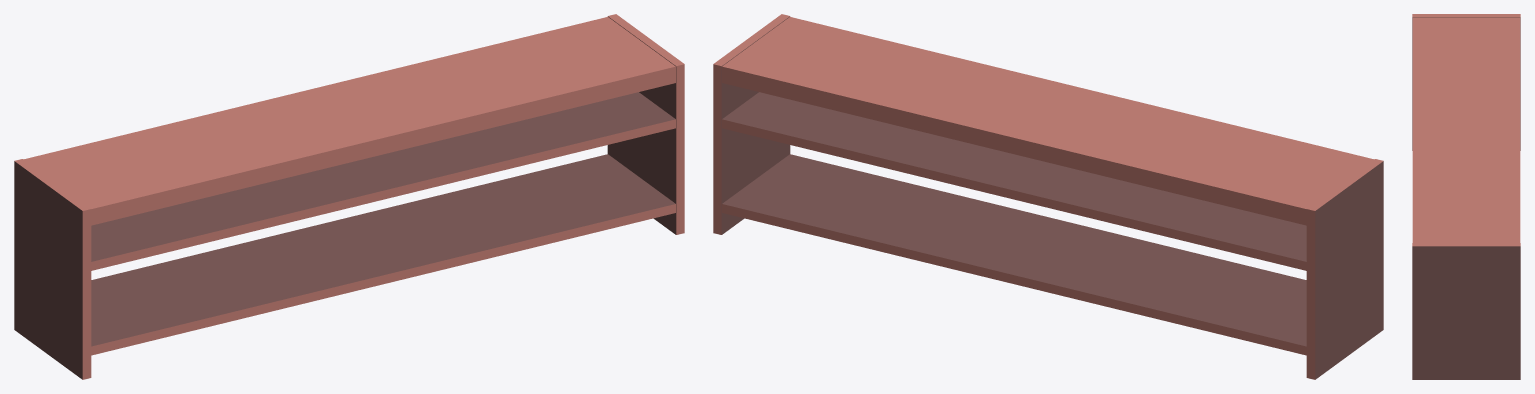
The model's file is Tv Table.fbx.
The picture shows the model from 3 angles, left to right: view 1: azimuth 30°, elevation 25°; view 2: azimuth 150°, elevation 25°; view 3: azimuth 270°, elevation 25°; orthographic projection. The views are drawn at different scales.
Visible parts, largest first — view 1: Tv Table; view 2: Tv Table; view 3: Tv Table.
Boxes of the visible parts, x1=… form: Tv Table: x1=14, y1=14, x2=684, y2=379; Tv Table: x1=713, y1=14, x2=1383, y2=379; Tv Table: x1=1412, y1=14, x2=1520, y2=379.
Size of the model in its own units: 388 by 104 by 76.58.
